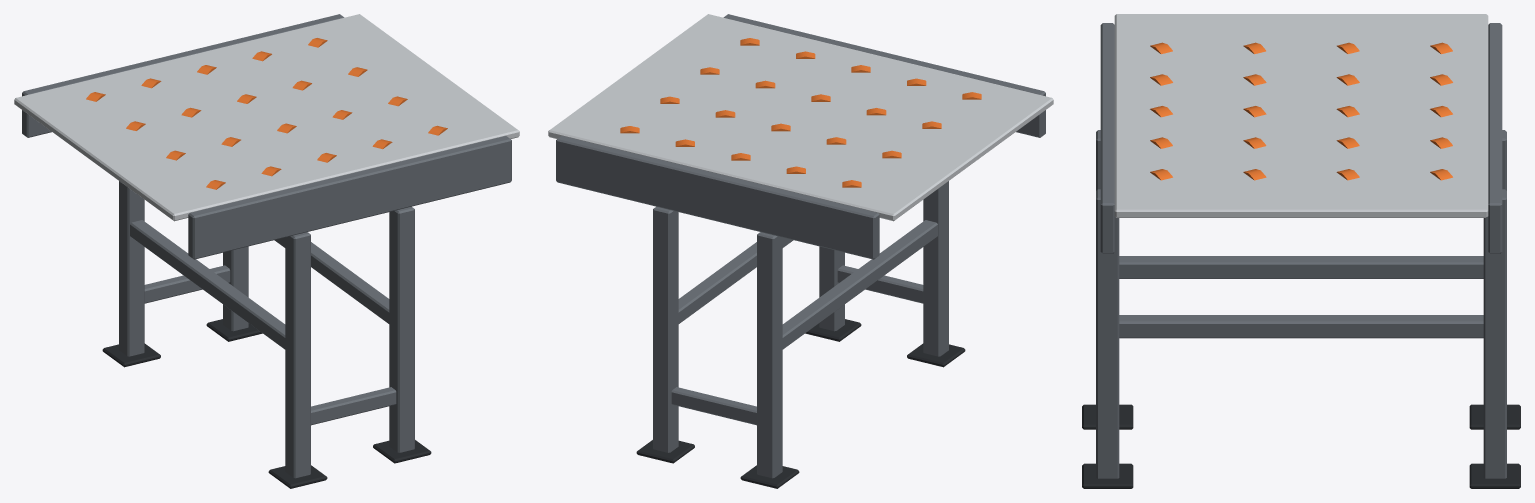
The model's file is popup_wheel_sorter.glb.
The picture shows the model from 3 angles, left to right: view 1: azimuth 30°, elevation 25°; view 2: azimuth 150°, elevation 25°; view 3: azimuth 270°, elevation 25°; orthographic projection. The views are drawn at different scales.
Parts seen in each view (by area): view 1: Sorter_Static, Wheels; view 2: Sorter_Static, Wheels; view 3: Sorter_Static, Wheels.
Boxes of the visible parts, <box> form: Sorter_Static: <box>14,14,519,488</box>; Wheels: <box>86,38,447,189</box>; Sorter_Static: <box>548,14,1053,488</box>; Wheels: <box>620,38,981,187</box>; Sorter_Static: <box>1082,14,1520,488</box>; Wheels: <box>1150,42,1452,180</box>.
Size of the model in its own units: 1 by 0.805 by 0.94.
